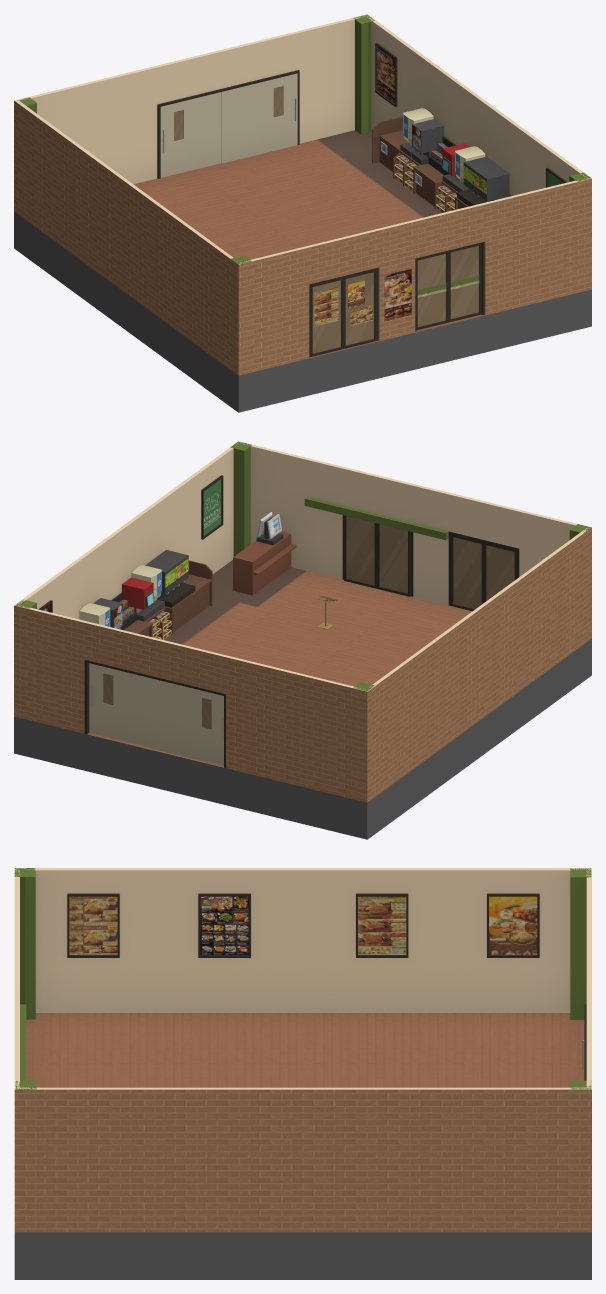
Rendered from FamilyRestaurant_Room.fbx.
The picture shows the model from 3 angles, top to bottom: view 1: azimuth 30°, elevation 25°; view 2: azimuth 150°, elevation 25°; view 3: azimuth 270°, elevation 25°; orthographic projection. The views are drawn at different scales.
Parts seen in each view (by area): view 1: Floor, Wall_Entrance, Wall_EatArea, Wall_Service, Wall_DrinkArea, DoorService_R, DoorService_L, DrinkCounter, Window_L, Window_R, Door_R, Door_L (+7 smaller); view 2: Floor, Wall_Service, Wall_EatArea, Wall_Entrance, Wall_DrinkArea, DoorService_L, DoorService_R, CashierCounter, Window_R, Door_L, DrinkCounter, Door_R (+8 smaller); view 3: Wall_DrinkArea, Floor, Wall_EatArea, Picture_011, Picture_03, Picture_06, Picture_05, Column04, Column01, Wall_Entrance, Wall_Service.
Boxes of the visible parts, bbox=[...] form: Floor: bbox=[14, 130, 591, 412]; Wall_Entrance: bbox=[238, 178, 591, 375]; Wall_EatArea: bbox=[14, 100, 238, 375]; Wall_Service: bbox=[14, 14, 366, 184]; Wall_DrinkArea: bbox=[367, 14, 586, 195]; DoorService_R: bbox=[221, 73, 297, 163]; DoorService_L: bbox=[160, 92, 221, 177]; DrinkCounter: bbox=[372, 116, 512, 212]; Window_L: bbox=[310, 277, 343, 356]; Window_R: bbox=[343, 269, 376, 348]; Door_R: bbox=[448, 243, 481, 322]; Door_L: bbox=[416, 251, 448, 330]; Floor: bbox=[14, 560, 591, 839]; Wall_Service: bbox=[14, 605, 367, 802]; Wall_EatArea: bbox=[367, 528, 591, 802]; Wall_Entrance: bbox=[239, 441, 577, 605]; Wall_DrinkArea: bbox=[14, 443, 237, 619]; DoorService_L: bbox=[150, 678, 223, 765]; DoorService_R: bbox=[89, 663, 150, 747]; CashierCounter: bbox=[233, 531, 296, 595]; Window_R: bbox=[450, 534, 483, 611]; Door_L: bbox=[377, 523, 410, 596]; DrinkCounter: bbox=[124, 560, 212, 639]; Door_R: bbox=[344, 515, 376, 588]; Wall_DrinkArea: bbox=[14, 1087, 591, 1232]; Floor: bbox=[14, 1013, 591, 1279]; Wall_EatArea: bbox=[16, 868, 591, 1012]; Picture_011: bbox=[67, 893, 119, 957]; Picture_03: bbox=[198, 893, 250, 957]; Picture_06: bbox=[487, 893, 539, 957]; Picture_05: bbox=[356, 893, 408, 957]; Column04: bbox=[570, 868, 591, 1019]; Column01: bbox=[14, 868, 35, 1019]; Wall_Entrance: bbox=[14, 869, 26, 1089]; Wall_Service: bbox=[584, 868, 591, 1089].
Bounding box in the file's own units: 1000 × 400 × 1102.
